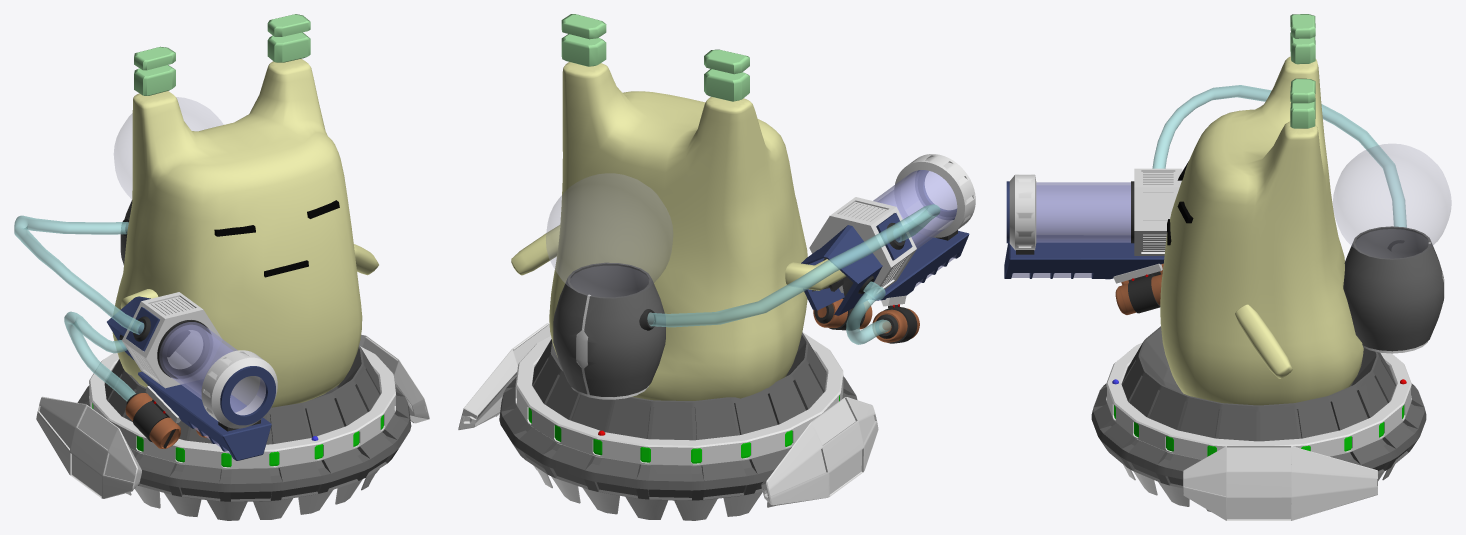
The model's file is alien_Posed_wGun_wHover2.0.fbx.
3 renders of one model, left to right at view 1: azimuth 30°, elevation 25°; view 2: azimuth 150°, elevation 25°; view 3: azimuth 270°, elevation 25°, orthographic. The views are drawn at different scales.
Parts seen in each view (by area): view 1: alienBody_posed_wGunwHover1, glowingGunBarrel; view 2: alienBody_posed_wGunwHover1, glowingGunBarrel; view 3: alienBody_posed_wGunwHover1, glowingGunBarrel.
Boxes of the visible parts, bbox=[...] form: alienBody_posed_wGunwHover1: bbox=[14, 14, 429, 520]; glowingGunBarrel: bbox=[160, 322, 265, 414]; alienBody_posed_wGunwHover1: bbox=[458, 14, 975, 520]; glowingGunBarrel: bbox=[873, 170, 957, 249]; alienBody_posed_wGunwHover1: bbox=[1004, 14, 1451, 520]; glowingGunBarrel: bbox=[1036, 182, 1130, 242].
Size of the model in its own units: 218 by 228 by 229.
